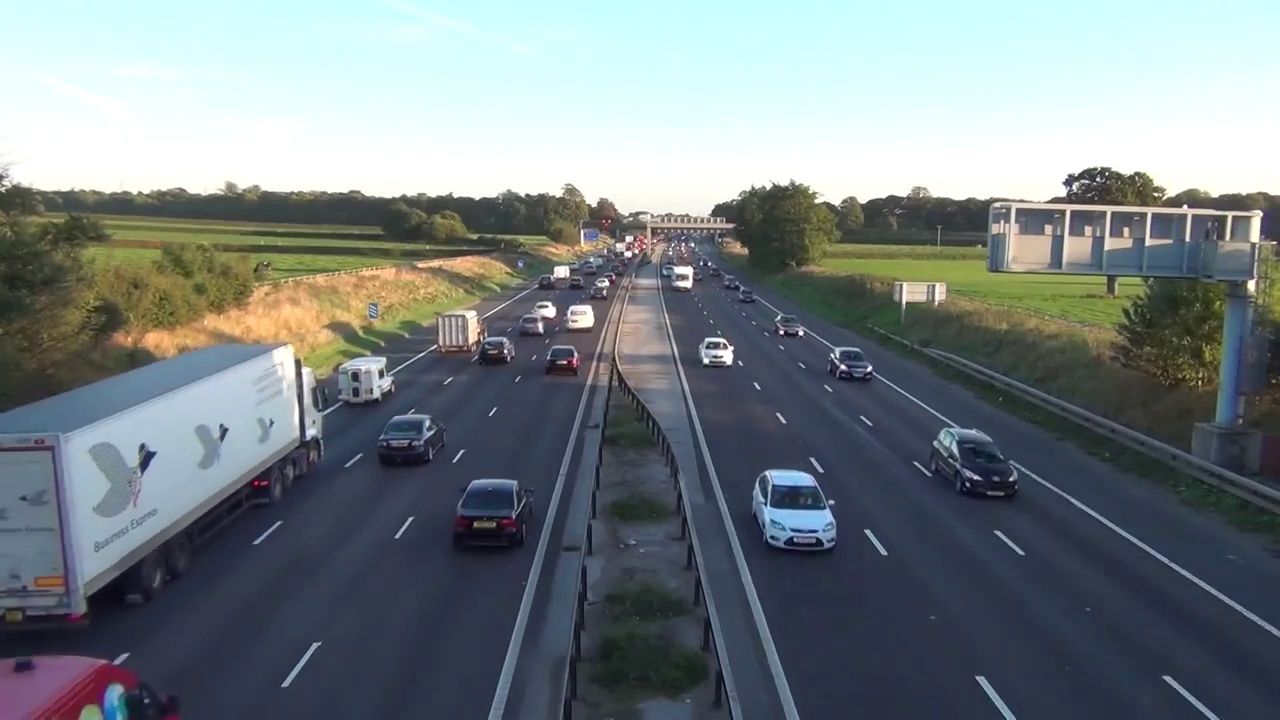bus: (753, 467, 840, 552), (929, 424, 1020, 500), (451, 477, 535, 550), (376, 412, 444, 465), (826, 345, 873, 380), (545, 344, 582, 376), (477, 336, 516, 365), (698, 336, 735, 366), (566, 304, 595, 331), (774, 313, 805, 337), (518, 313, 547, 337), (531, 301, 556, 319)
car: (2, 342, 332, 638), (436, 310, 486, 353)
lorry: (339, 355, 392, 404)
